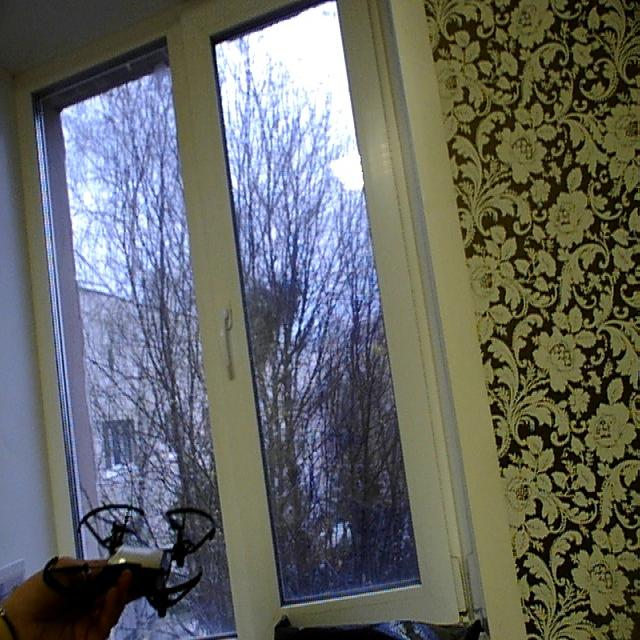drone: (39, 500, 224, 616)
